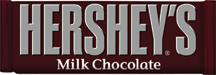grozi_10: (0, 0, 215, 74)
